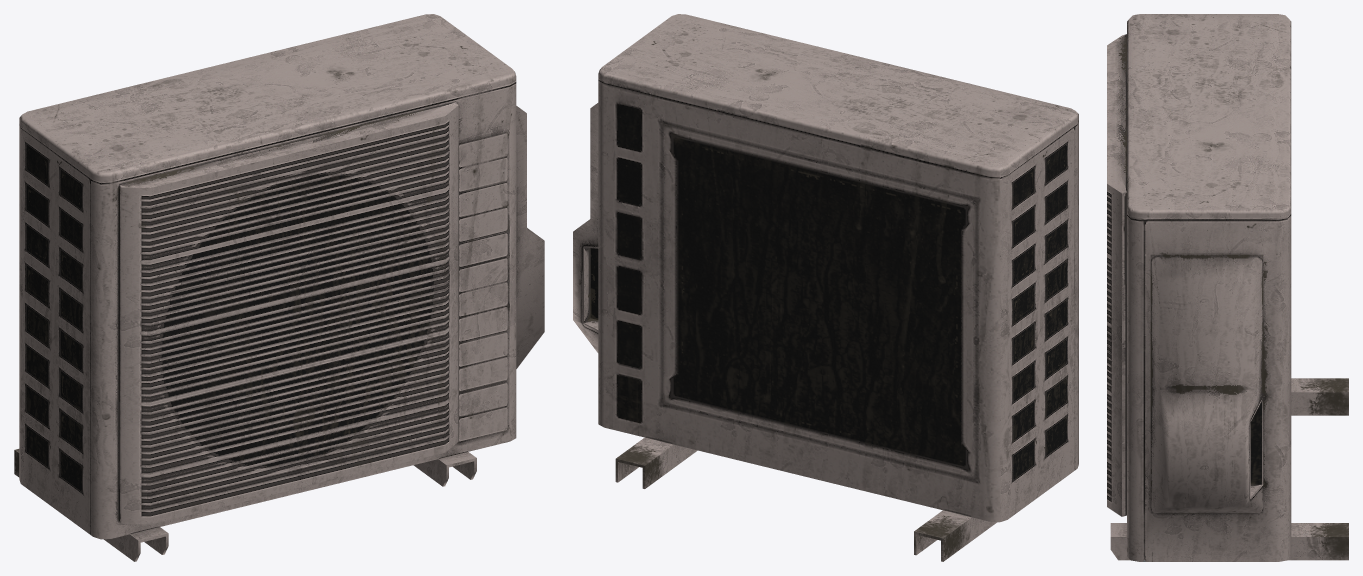
The model's file is OutdoorUnit_A.fbx.
3 renders of one model, left to right at view 1: azimuth 30°, elevation 25°; view 2: azimuth 150°, elevation 25°; view 3: azimuth 270°, elevation 25°, orthographic. The views are drawn at different scales.
Visible parts, largest first — view 1: OutdoorUnit_A; view 2: OutdoorUnit_A; view 3: OutdoorUnit_A.
Boxes of the visible parts, box(x1,y1,x2,y2) form: OutdoorUnit_A: box(14, 14, 544, 561); OutdoorUnit_A: box(573, 14, 1078, 561); OutdoorUnit_A: box(1107, 14, 1348, 561).
Size of the model in its own units: 79.85 by 63.72 by 37.26.
Materials: 1 (1 with a texture image).
